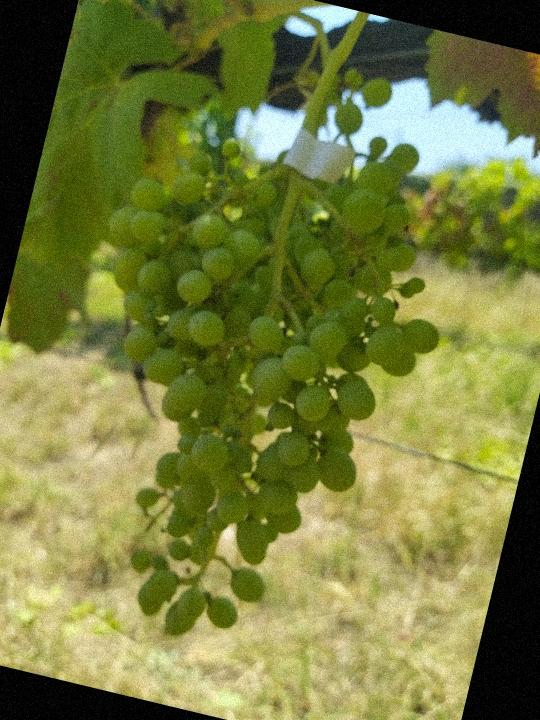grape: (13, 77, 484, 684)
